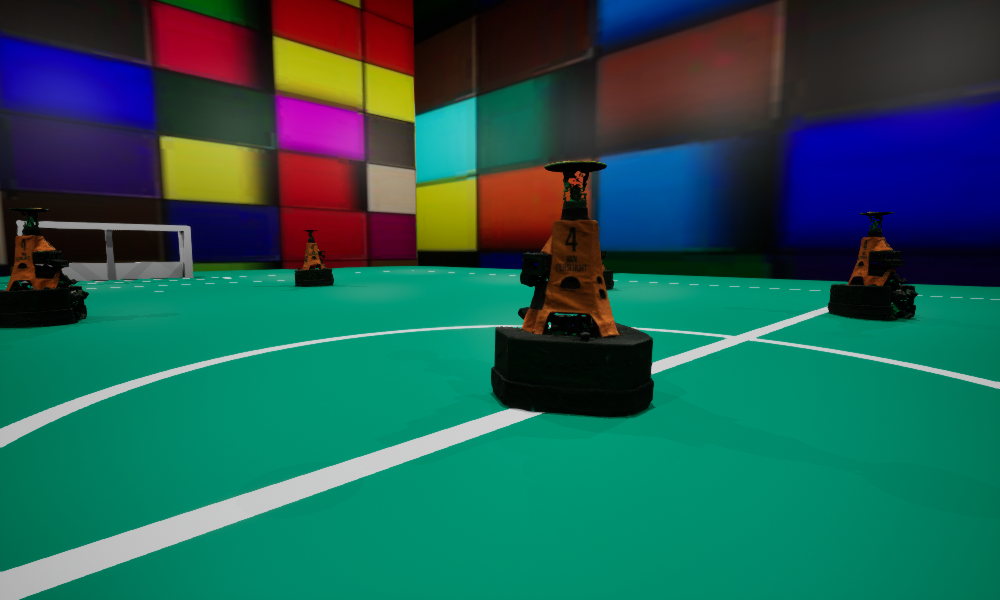0 orange robot TechUnited: (491, 161, 653, 416), (0, 208, 88, 327), (828, 212, 917, 320), (295, 230, 333, 286), (599, 228, 613, 289)
